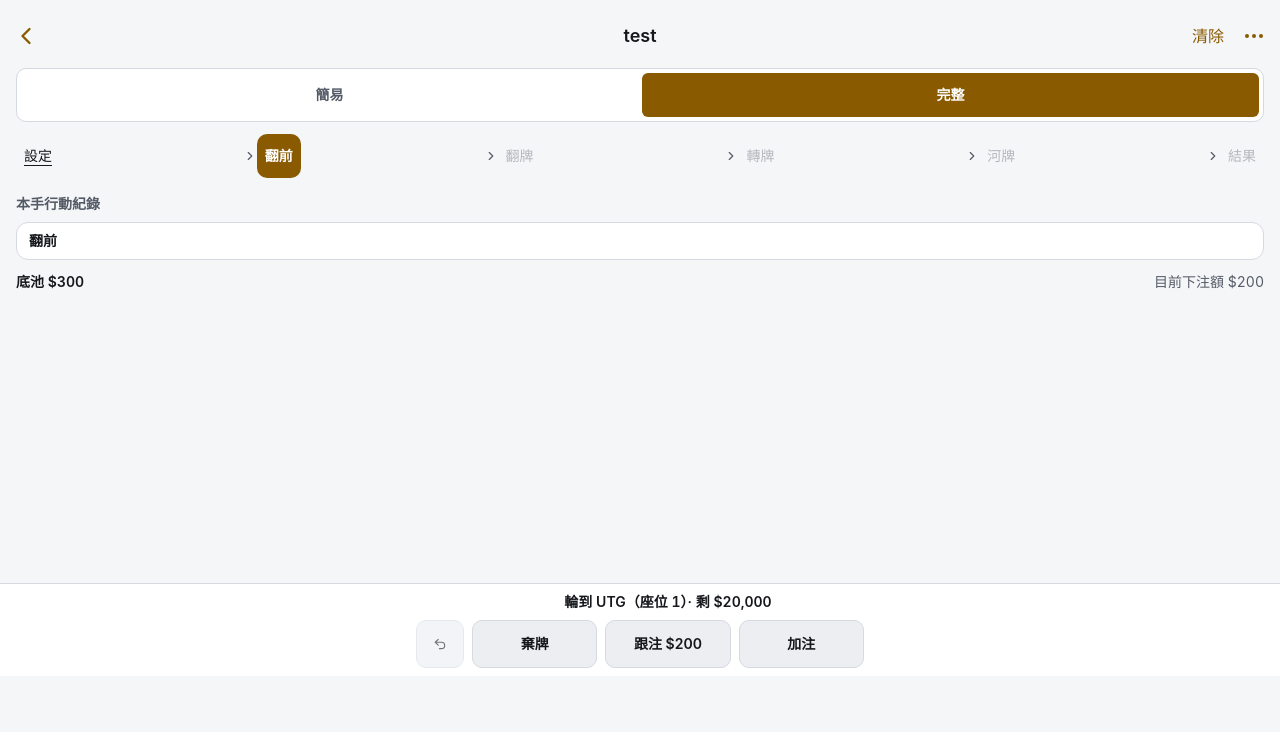
it: 5.3 自動捲動：HandForm 呼叫 revealLatest 的時機與參數 › 5.3 新增一筆行動後：top 為最新一筆行動（行動紀錄最後一行）、bottom 為「底池 / 目前下注額」那一行，reducedMotion false
Click the button "棄牌".
click(535, 644)  # box [472,620,597,668]
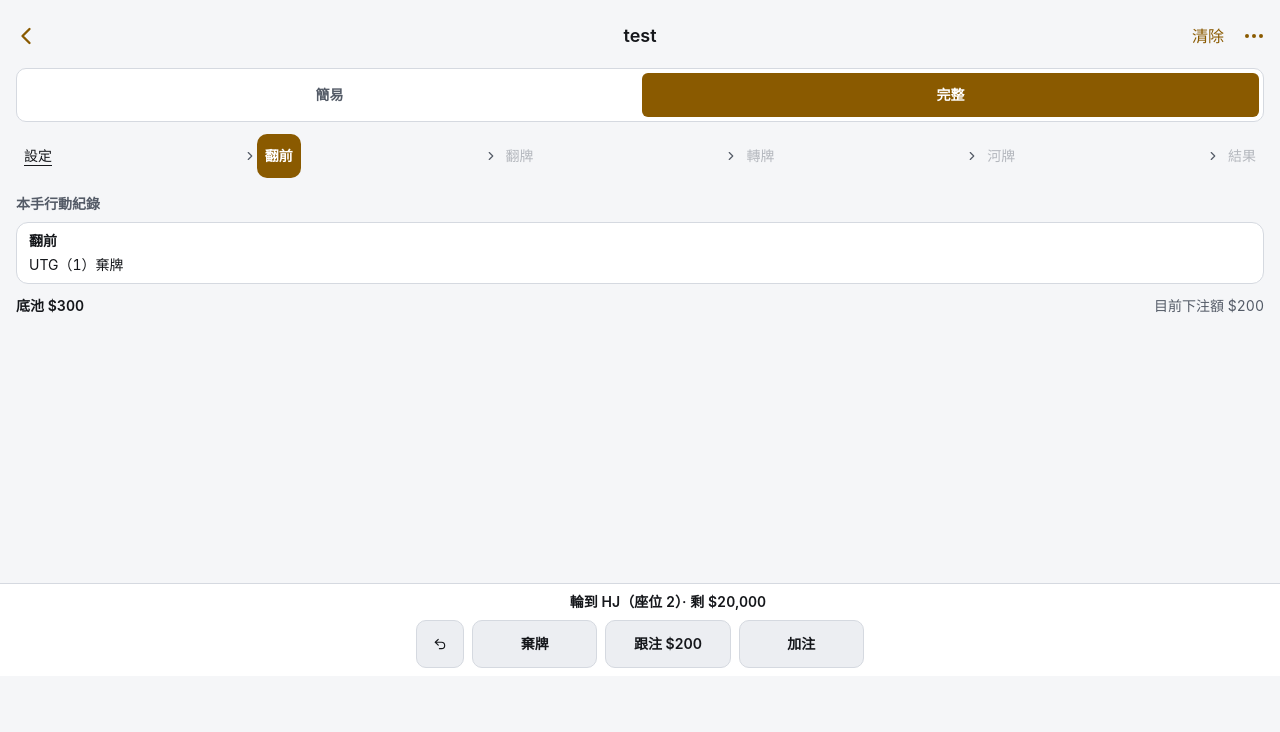
Expected: the list item with test id "log-line" shows "棄牌", [29,256,124,273]
